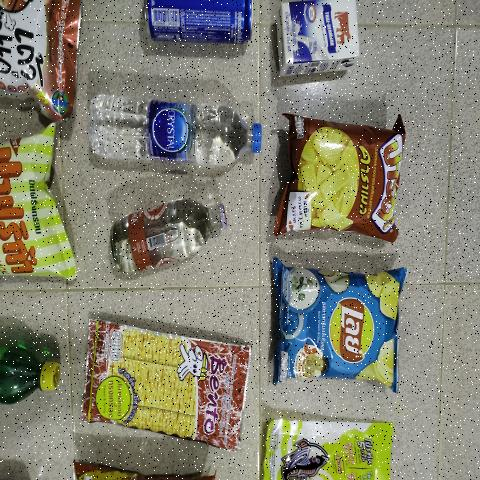bento_red: (86, 324, 242, 446)
crystal: (83, 91, 260, 179)
lay_blue: (286, 269, 396, 385)
party_red: (284, 117, 400, 235)
pepsi_blue: (144, 0, 253, 50)
singha_soda: (106, 200, 228, 282)
taro_yellow: (263, 425, 395, 480)
thai_denmark: (280, 5, 360, 76)
